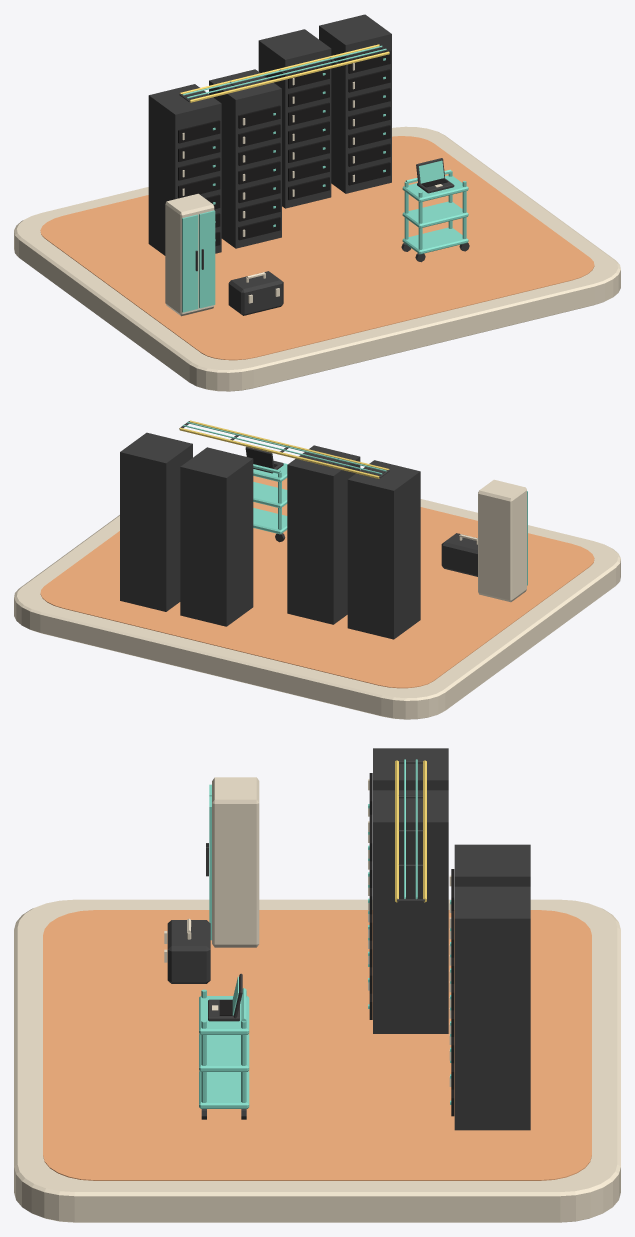
The picture shows the model from 3 angles, top to bottom: view 1: azimuth 30°, elevation 25°; view 2: azimuth 150°, elevation 25°; view 3: azimuth 270°, elevation 25°; orthographic projection. The views are drawn at different scales.
Visible parts, largest first — view 1: COM-02 Floor Surface, COM-01 Rounded Base Direct, Server case, Server case.003, Server case.001, Server case.002, Equipment case, Case, Door, Door.001, Tray, Tray.001 (+26 smaller); view 2: COM-02 Floor Surface, COM-01 Rounded Base Direct, Server case.002, Server case, Server case.003, Server case.001, Equipment case, Case, Cable rail.001, Tray, Tray.001, Cable rail (+3 smaller); view 3: COM-02 Floor Surface, COM-01 Rounded Base Direct, Server case.003, Server case.001, Equipment case, Server case.002, Server case, Case, Tray.001, Tray, Tray.002.
Boxes of the visible parts, x1,y1,x2,y2 form: COM-02 Floor Surface: [40, 136, 594, 360]; COM-01 Rounded Base Direct: [14, 126, 620, 391]; Server case: [148, 84, 221, 255]; Server case.003: [319, 14, 391, 193]; Server case.001: [209, 69, 281, 248]; Server case.002: [258, 29, 331, 208]; Equipment case: [165, 193, 214, 316]; Case: [228, 271, 283, 315]; Door: [182, 214, 198, 312]; Door.001: [199, 210, 215, 308]; Tray: [402, 227, 468, 254]; Tray.001: [402, 201, 468, 228]; COM-02 Floor Surface: [40, 476, 594, 688]; COM-01 Rounded Base Direct: [14, 456, 620, 719]; Server case.002: [180, 447, 253, 626]; Server case: [347, 460, 420, 639]; Server case.003: [120, 432, 192, 611]; Server case.001: [287, 445, 360, 624]; Equipment case: [478, 479, 526, 602]; Case: [441, 533, 477, 576]; Cable rail.001: [179, 427, 379, 478]; Tray: [253, 508, 287, 534]; Tray.001: [253, 482, 287, 508]; Cable rail: [189, 420, 389, 470]; COM-02 Floor Surface: [43, 910, 591, 1180]; COM-01 Rounded Base Direct: [14, 899, 620, 1222]; Server case.003: [454, 886, 530, 1130]; Server case.001: [373, 790, 448, 1033]; Equipment case: [212, 777, 259, 947]; Server case.002: [454, 844, 530, 886]; Server case: [373, 748, 448, 790]; Case: [167, 920, 210, 983]; Tray.001: [199, 1034, 249, 1071]; Tray: [199, 1071, 249, 1108]; Tray.002: [199, 996, 249, 1034].
Bounding box in the file's own units: 6 × 2.35 × 5.2.
1 material, 1 textured.
